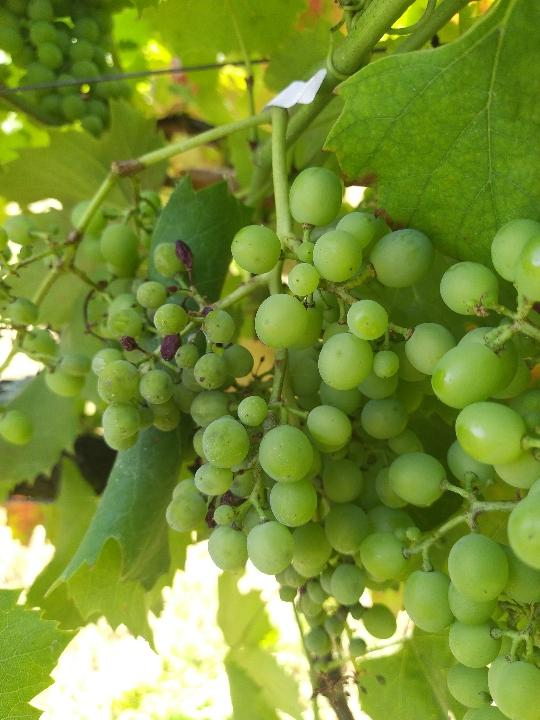grape: (84, 163, 455, 618)
